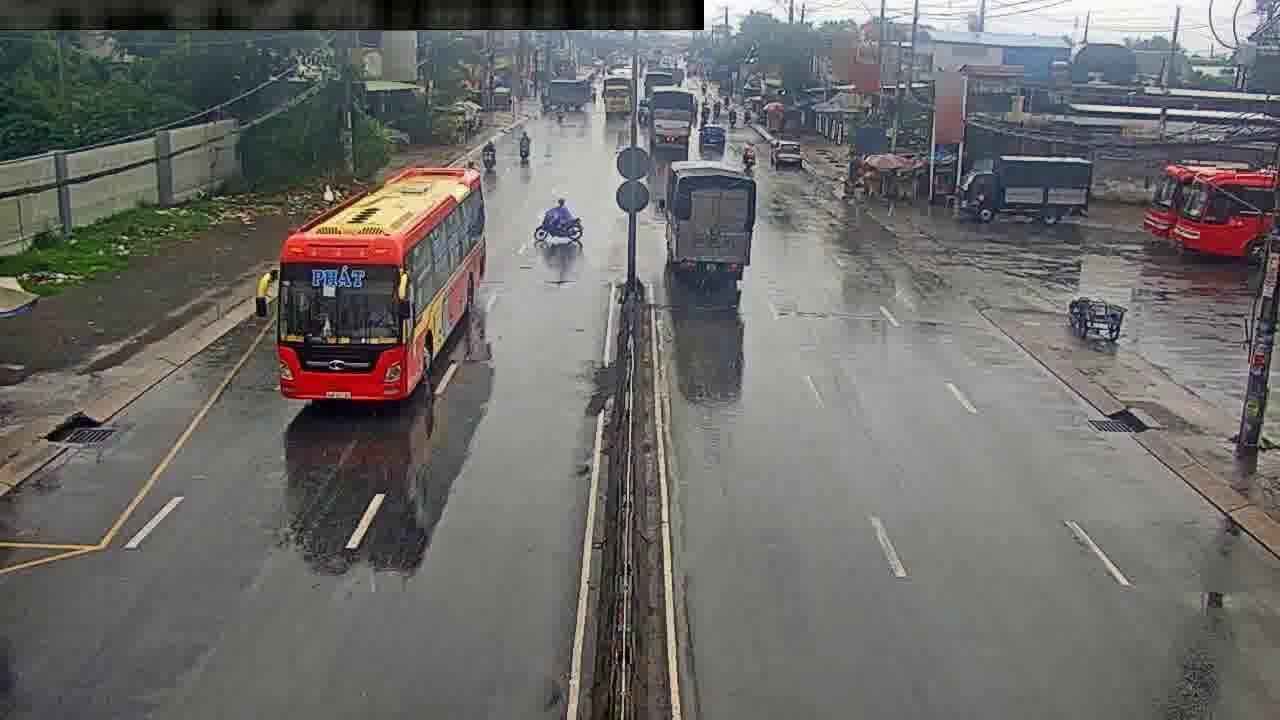8: (276, 168, 486, 407), (659, 158, 757, 277), (652, 97, 692, 149)
motorbike: (533, 195, 581, 246), (517, 124, 534, 165), (476, 143, 491, 181)
